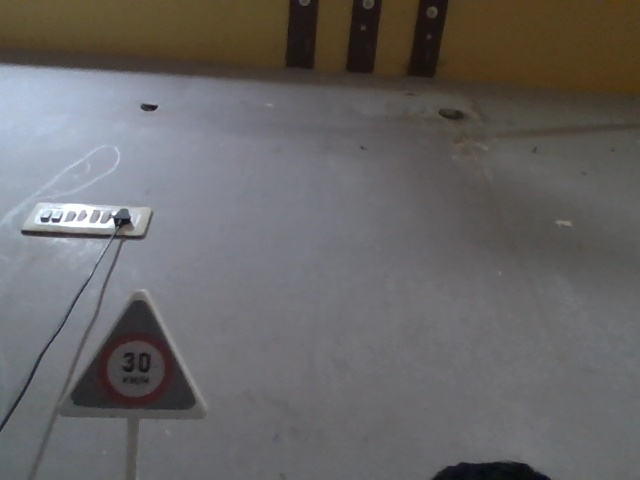speedlimit: (59, 283, 208, 429)
